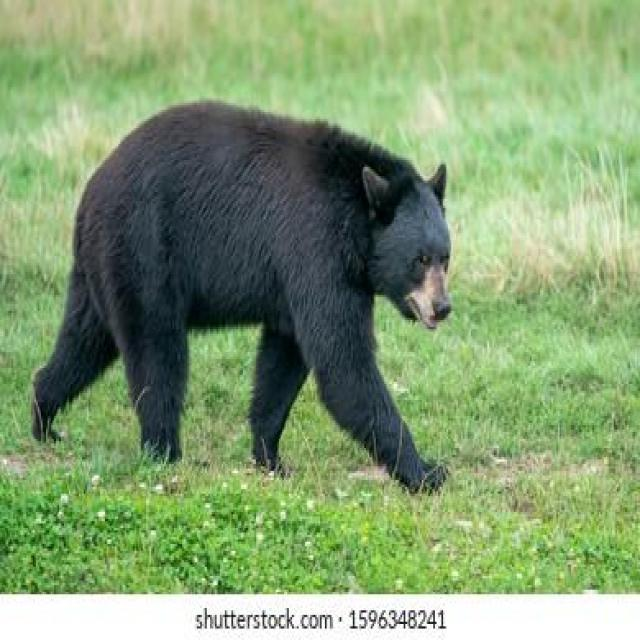Bear: (31, 101, 453, 496)
